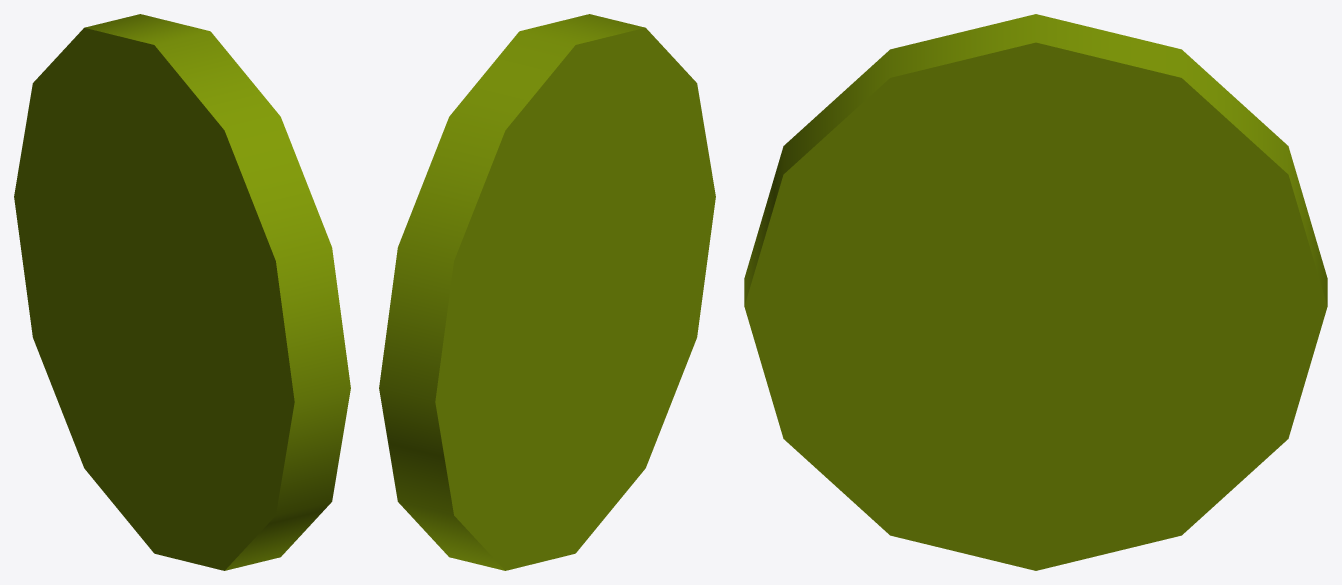
The model's file is SM_Poteausign3.fbx.
3 views of the same model, side by side, from view 1: azimuth 30°, elevation 25°; view 2: azimuth 150°, elevation 25°; view 3: azimuth 270°, elevation 25° (orthographic). The views are drawn at different scales.
Parts seen in each view (by area): view 1: Poteausign3; view 2: Poteausign3; view 3: Poteausign3.
Part boxes in pixels (x1,y1,x2,y2): Poteausign3: (14, 14, 350, 570); Poteausign3: (379, 14, 715, 570); Poteausign3: (744, 14, 1327, 570).
Bounding box in the file's own units: 5.74 × 49.62 × 49.62.
